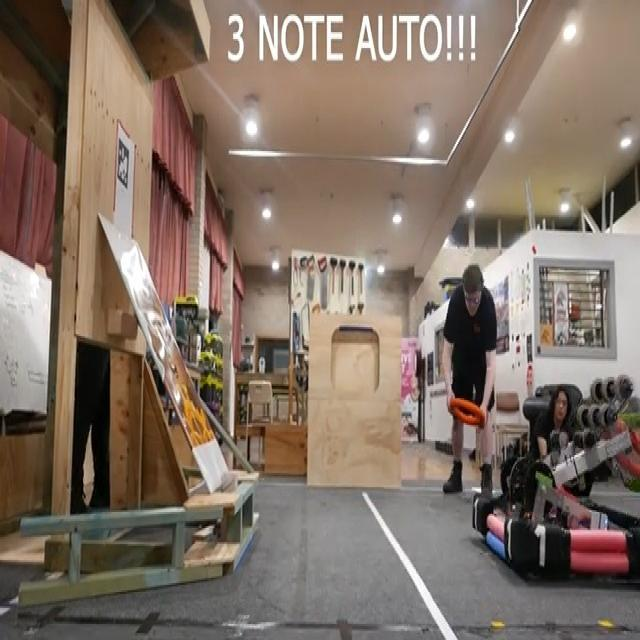note: (449, 398, 485, 427), (449, 401, 484, 425)
robot: (472, 375, 640, 585)
